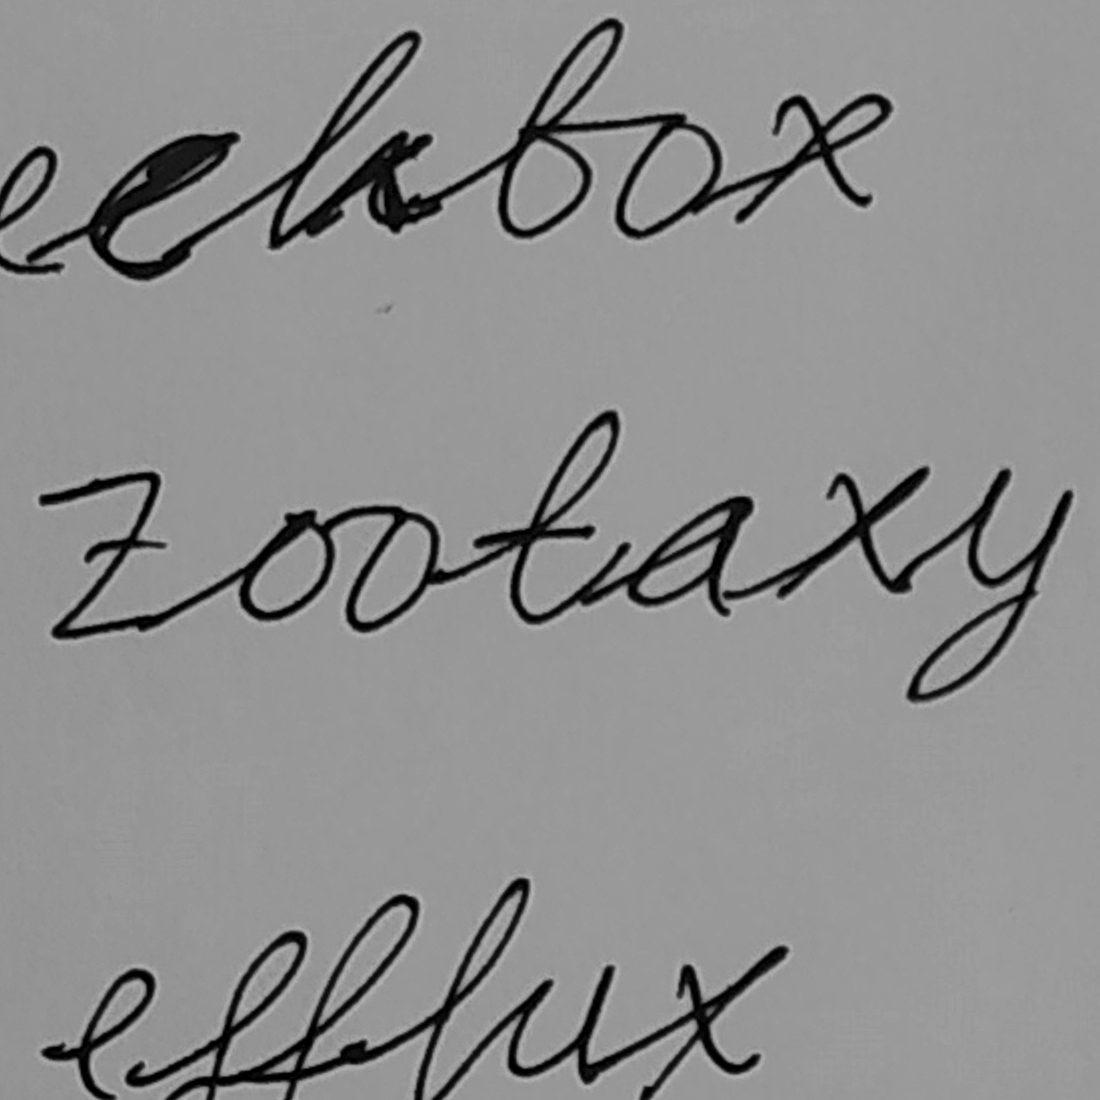a: (624, 492, 757, 622)
o: (340, 507, 443, 635), (234, 507, 337, 624)
t: (471, 407, 623, 627)
x: (774, 462, 930, 600)
y: (899, 465, 1076, 704)
z: (35, 467, 170, 645)
